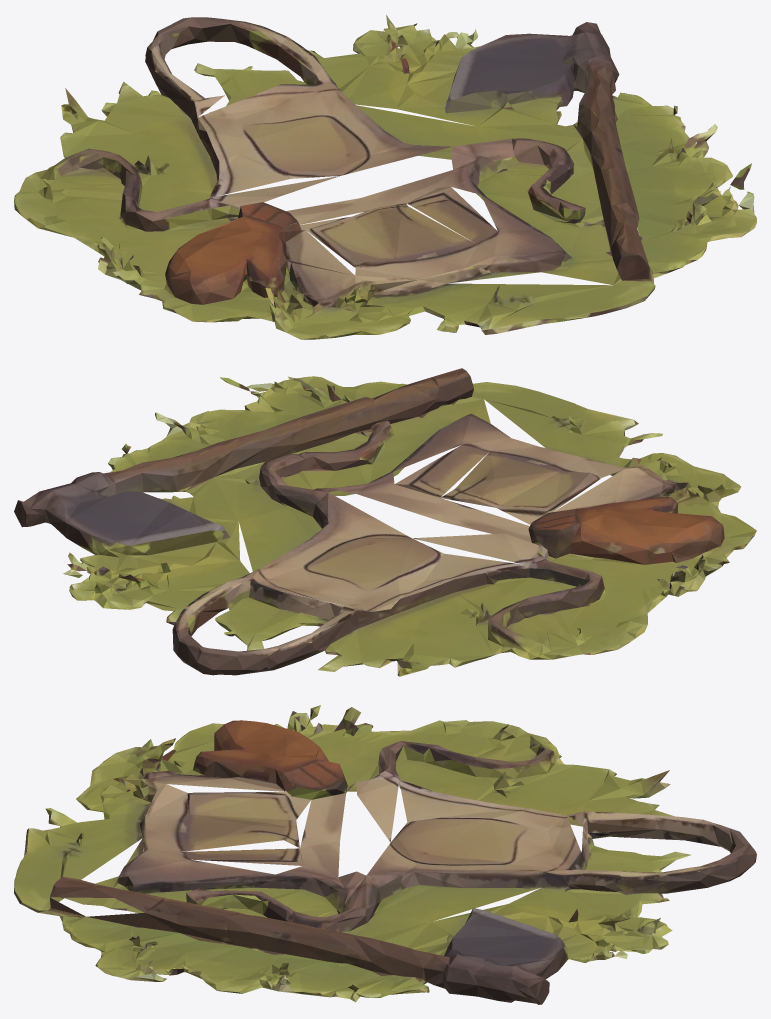
File: hill_trace.glb
3 views of the same model, one above another, from view 1: azimuth 30°, elevation 25°; view 2: azimuth 150°, elevation 25°; view 3: azimuth 270°, elevation 25° (orthographic). The views are drawn at different scales.
Parts seen in each view (by area): view 1: geometry_0; view 2: geometry_0; view 3: geometry_0.
Boxes of the visible parts, left/top/right/bottom form: geometry_0: left=14, top=15, right=756, bottom=339; geometry_0: left=14, top=368, right=756, bottom=676; geometry_0: left=14, top=705, right=756, bottom=1004.
Size of the model in its own units: 0.8178 by 0.0497 by 0.9.
Materials: 1 (1 with a texture image).
